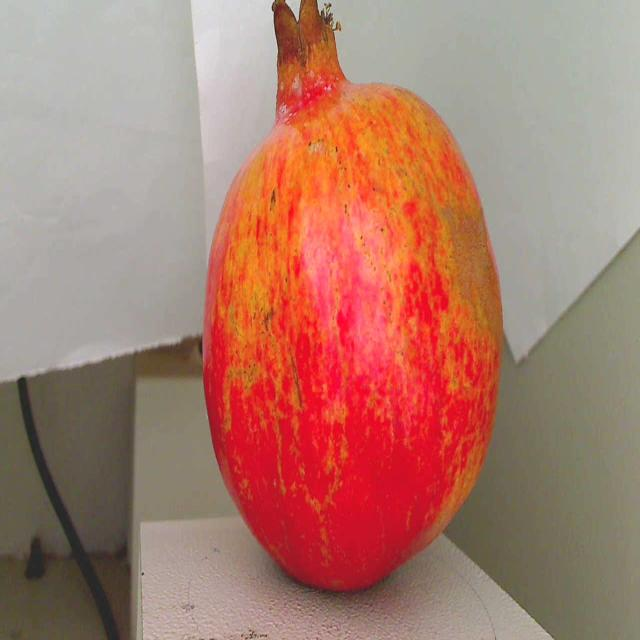pomegranate: (190, 0, 514, 594)
